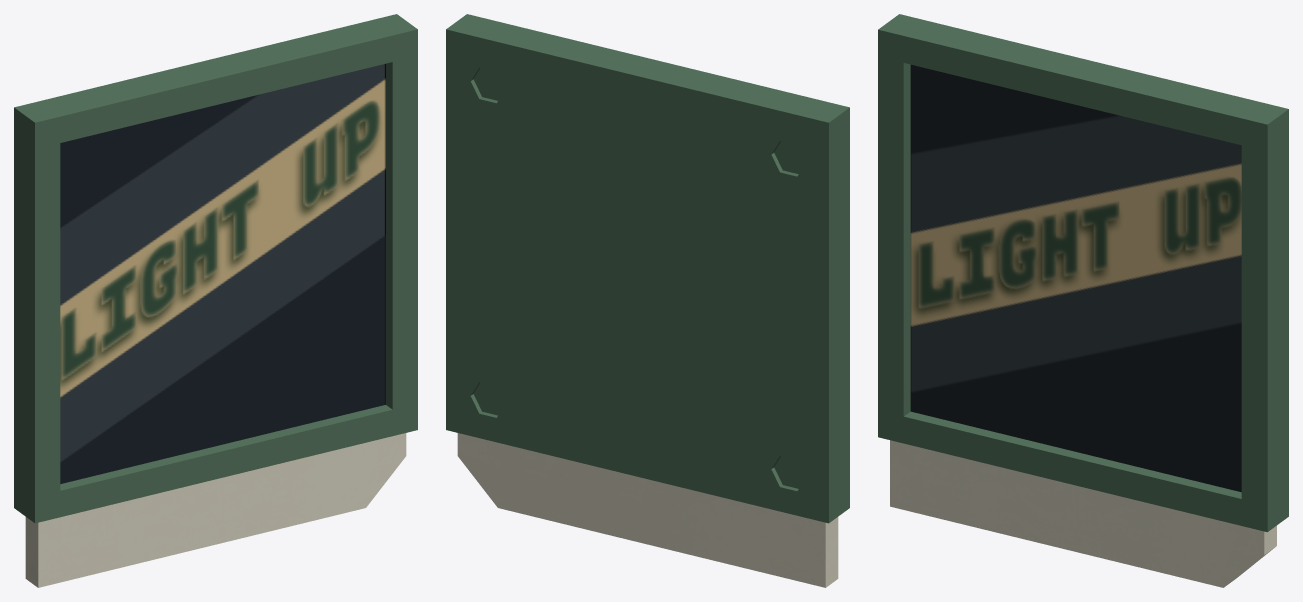
Rendered from upgrade.fbx.
The picture shows the model from 3 angles, left to right: view 1: azimuth 30°, elevation 25°; view 2: azimuth 150°, elevation 25°; view 3: azimuth 330°, elevation 25°; orthographic projection.
Visible parts, largest first — view 1: Upgrade.001, Upgrade; view 2: Upgrade; view 3: Upgrade.001, Upgrade.
Part boxes in pixels (<box>): Upgrade.001: <box>60,63,385,483</box>; Upgrade: <box>14,14,417,587</box>; Upgrade: <box>446,14,849,587</box>; Upgrade.001: <box>910,64,1241,492</box>; Upgrade: <box>878,14,1288,587</box>.
Size of the model in its own units: 125 by 146 by 11.88.
